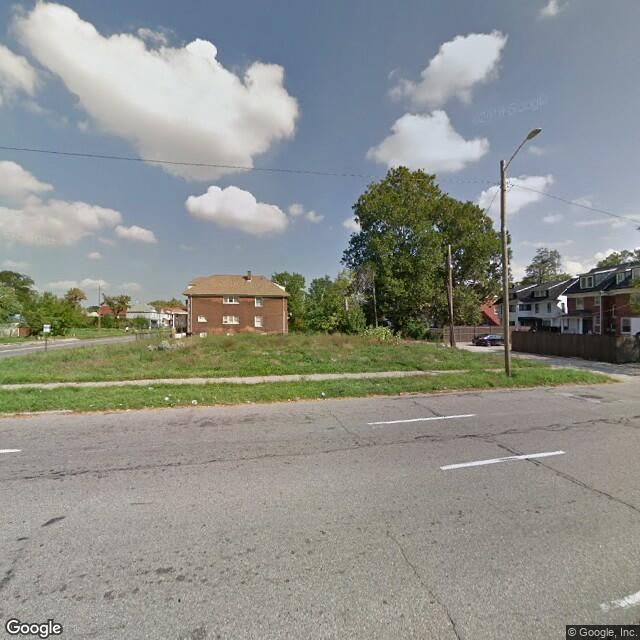litter: (188, 398, 204, 405), (319, 389, 325, 400), (163, 396, 169, 404)
